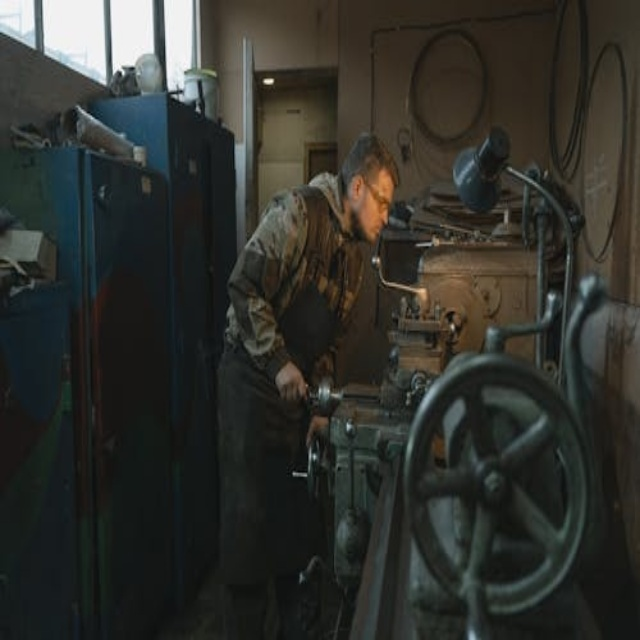Gafas: (363, 178, 393, 216)
Sin_guantes: (274, 360, 310, 408), (305, 412, 331, 451)
Sin_mascara: (365, 211, 389, 244)
